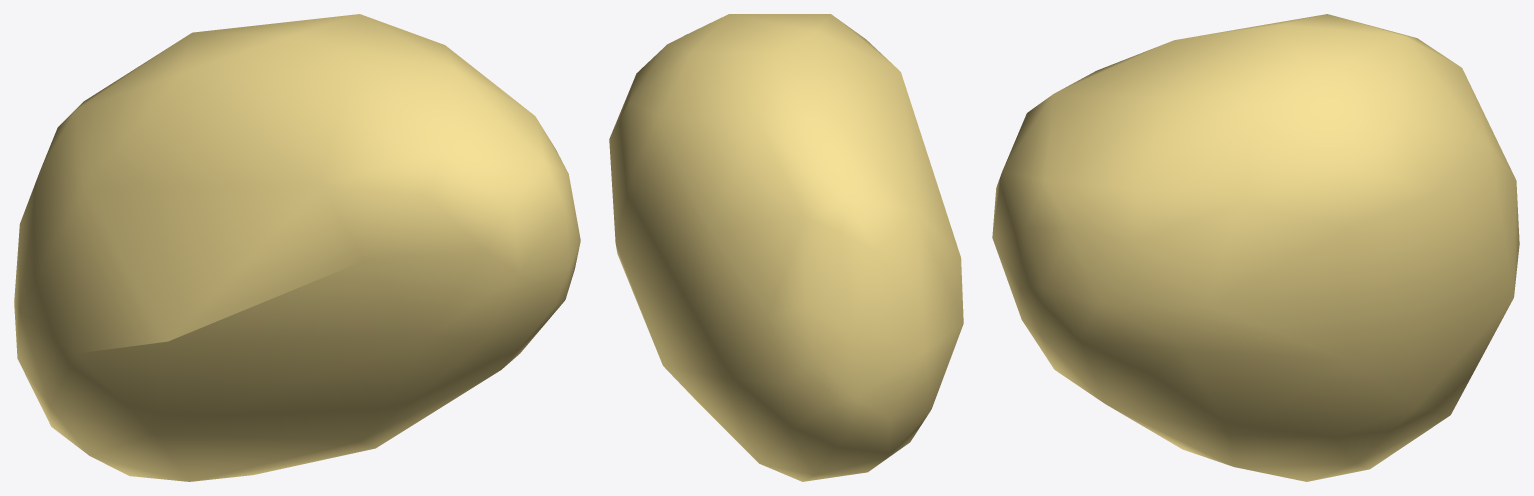
The model's file is fma73435_fj1762.glb.
The picture shows the model from 3 angles, left to right: view 1: azimuth 30°, elevation 25°; view 2: azimuth 150°, elevation 25°; view 3: azimuth 270°, elevation 25°; orthographic projection. The views are drawn at different scales.
Parts seen in each view (by area): view 1: FMA73435_FJ1762; view 2: FMA73435_FJ1762; view 3: FMA73435_FJ1762.
Boxes of the visible parts, x1,y1,x2,y2 form: FMA73435_FJ1762: (14,14,580,481); FMA73435_FJ1762: (609,14,963,481); FMA73435_FJ1762: (992,14,1519,481).
Bounding box in the file's own units: 0.00765 × 0.00762 × 0.0078.
